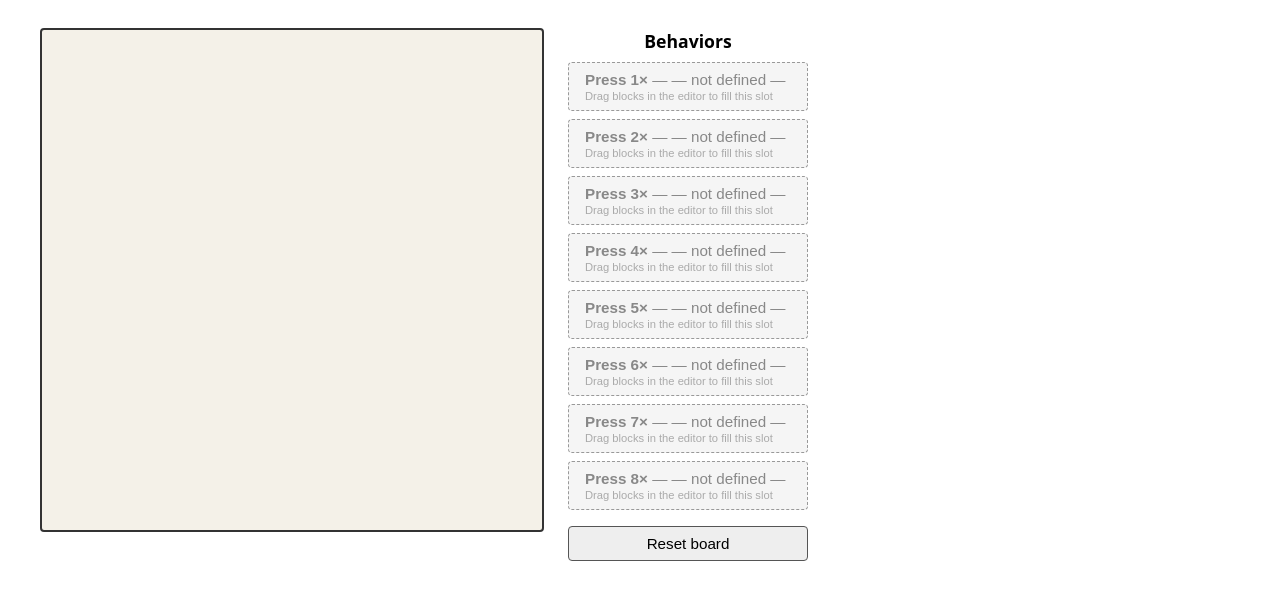
Test case: App — empty user program shows friendly message › shows the empty-program message when pressing a button bound to an empty user program
Click the button with aria-label "press reset 6 times" at (688, 372), box [568, 347, 808, 396]
(page scrolled)
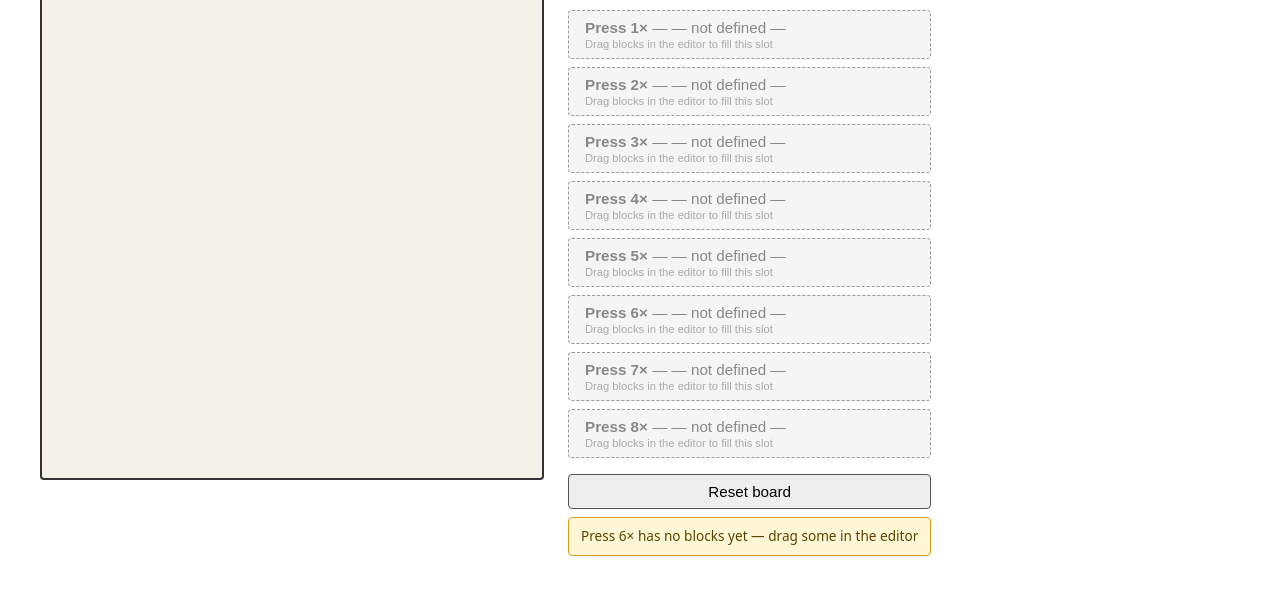
Expected: the message with test id "press-button-message" shows "has no", [581, 526, 918, 545]
